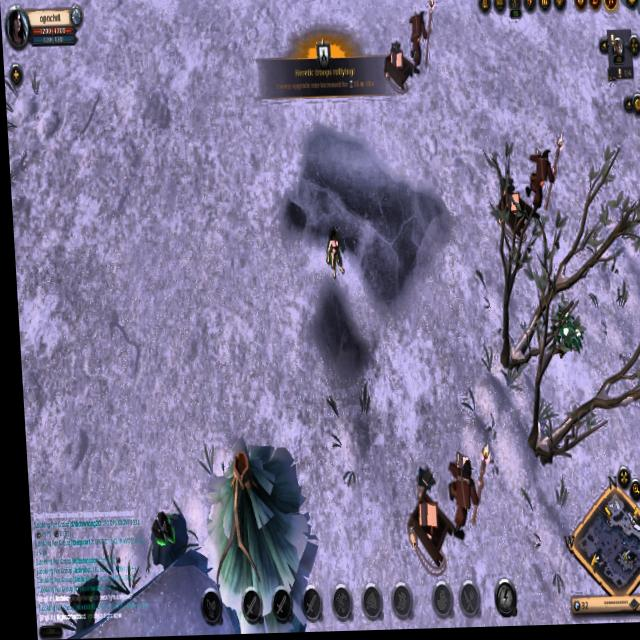mob: (441, 445, 487, 541), (520, 138, 564, 216), (405, 0, 437, 78)
tin_ore: (140, 506, 177, 570)
